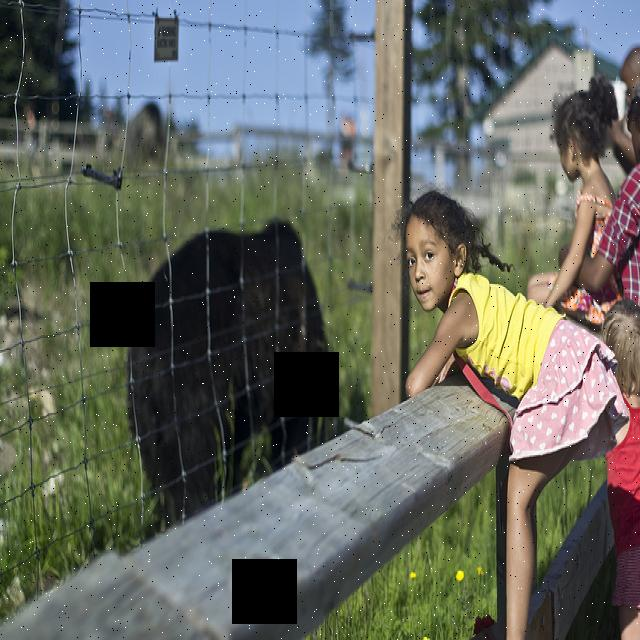Bear: (109, 222, 331, 520)
